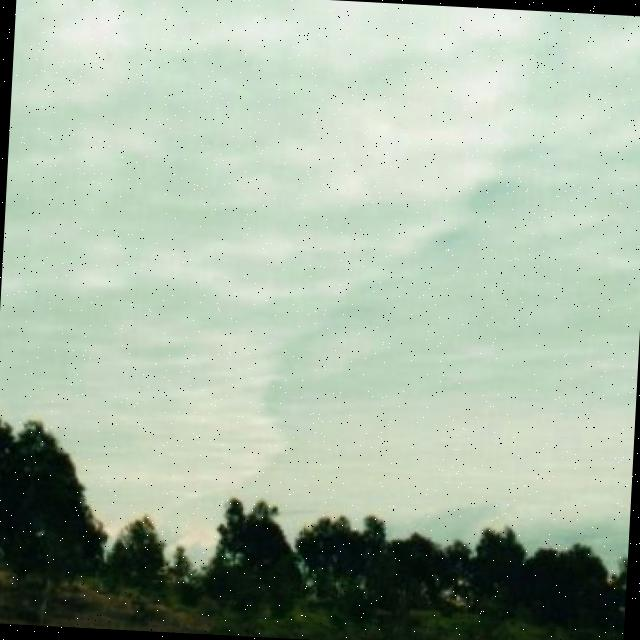St: (1, 1, 640, 394)
